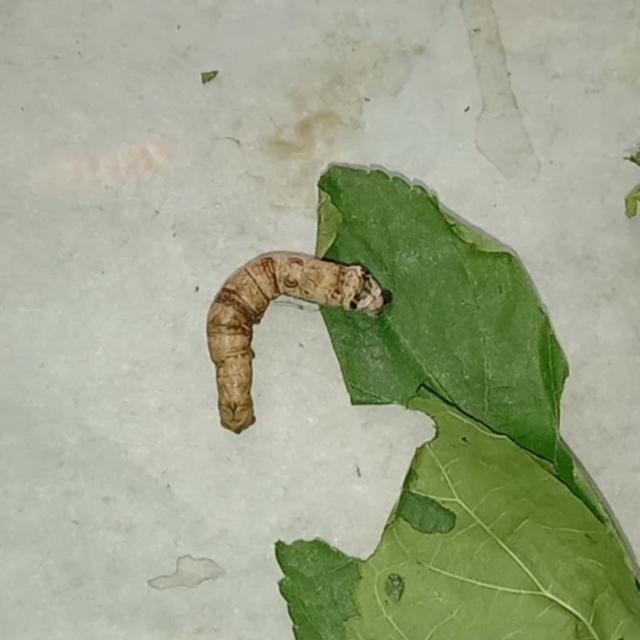Grasserie: (183, 217, 412, 464)
